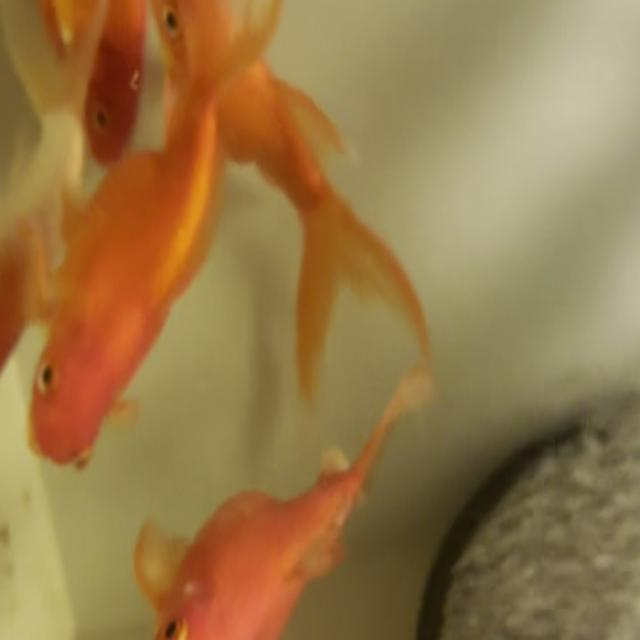fish: (170, 0, 428, 412), (26, 51, 239, 470), (132, 370, 423, 640), (0, 169, 75, 523), (14, 0, 161, 164)
